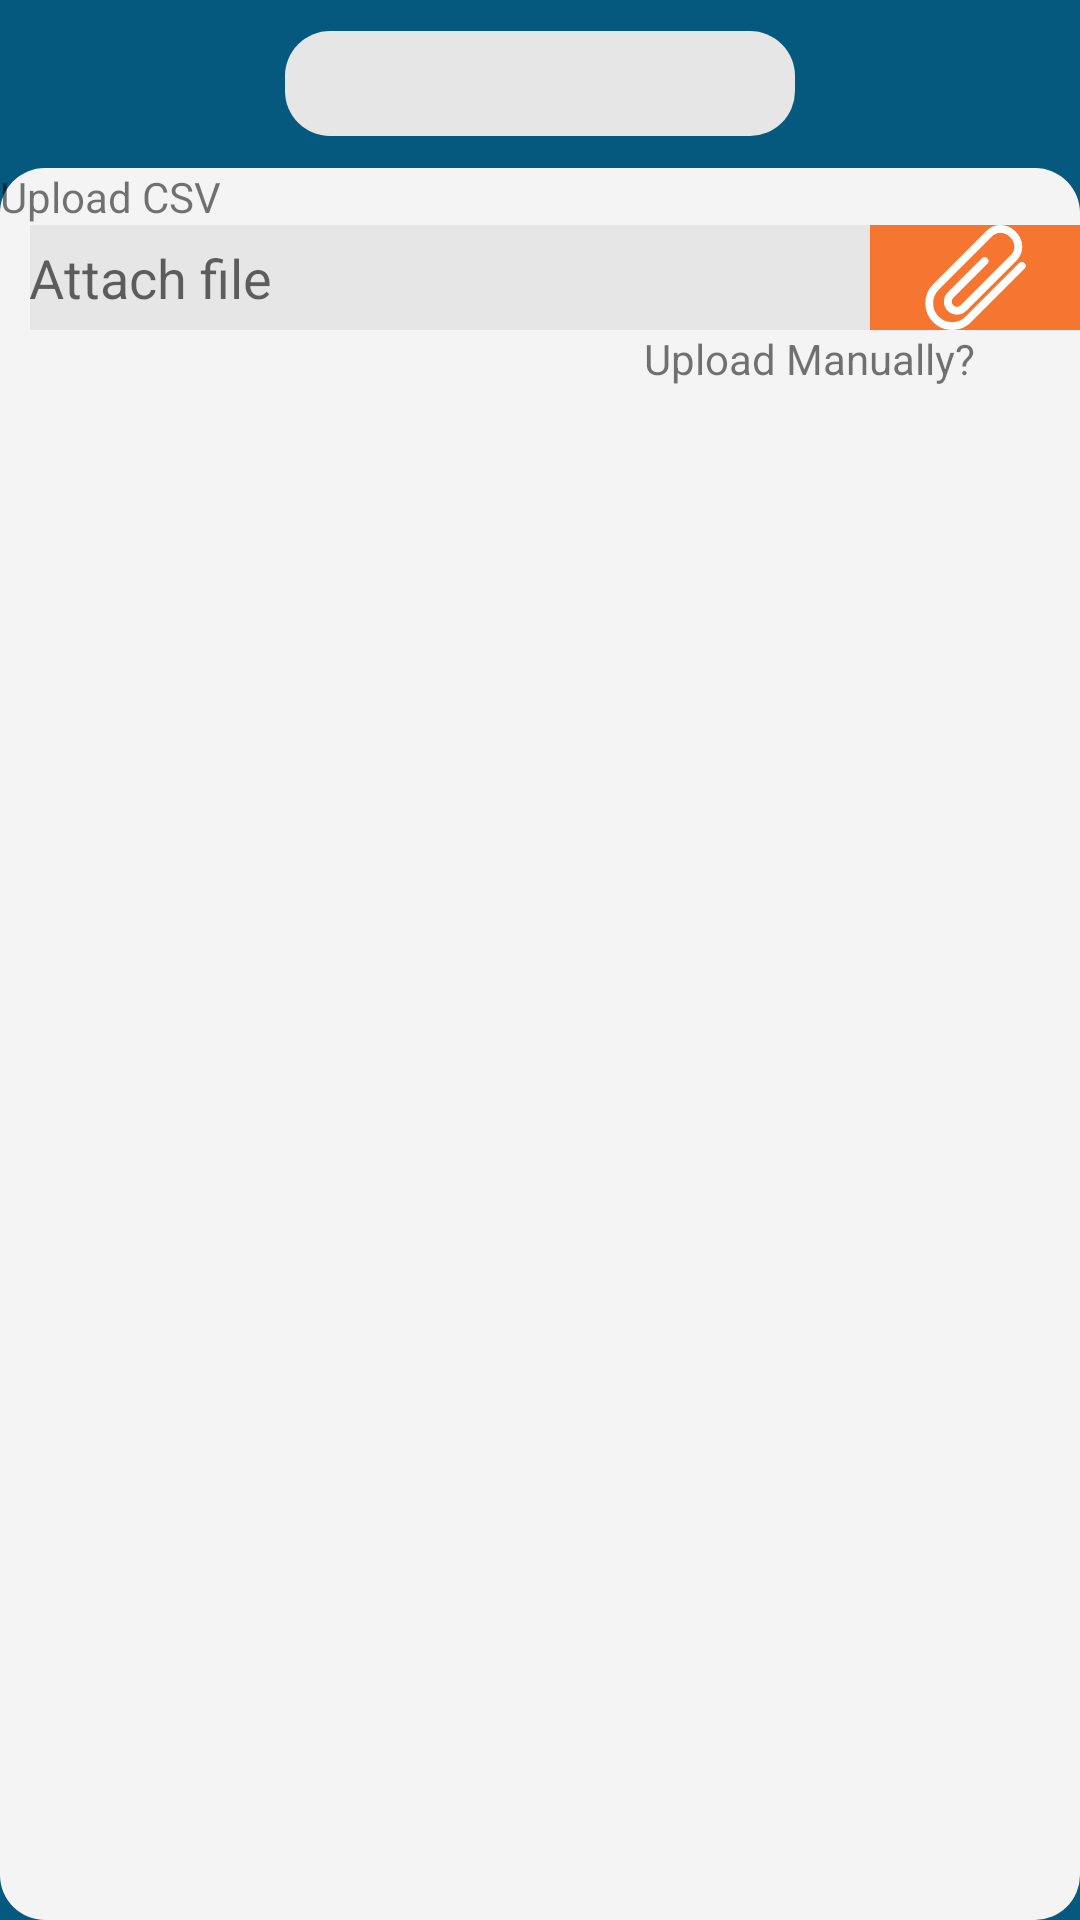

Icons on this 1080*1920 Android screen, each with the point to tap as (x,y):
attachment: (975,277)
